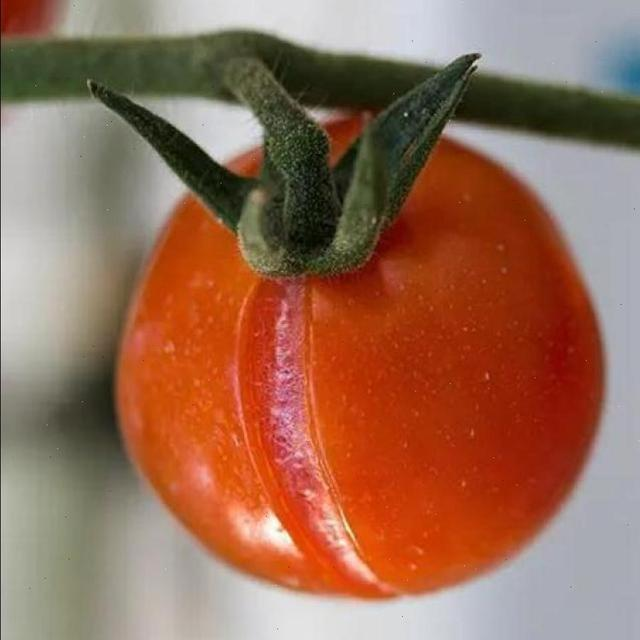Sunscald Fruit: (146, 149, 296, 399)
